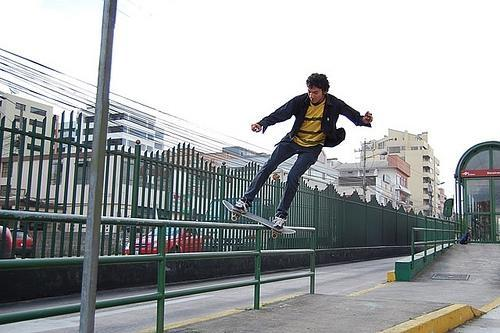car: (125, 227, 205, 255), (10, 229, 36, 258), (4, 227, 13, 258)
truck: (126, 222, 204, 254)
